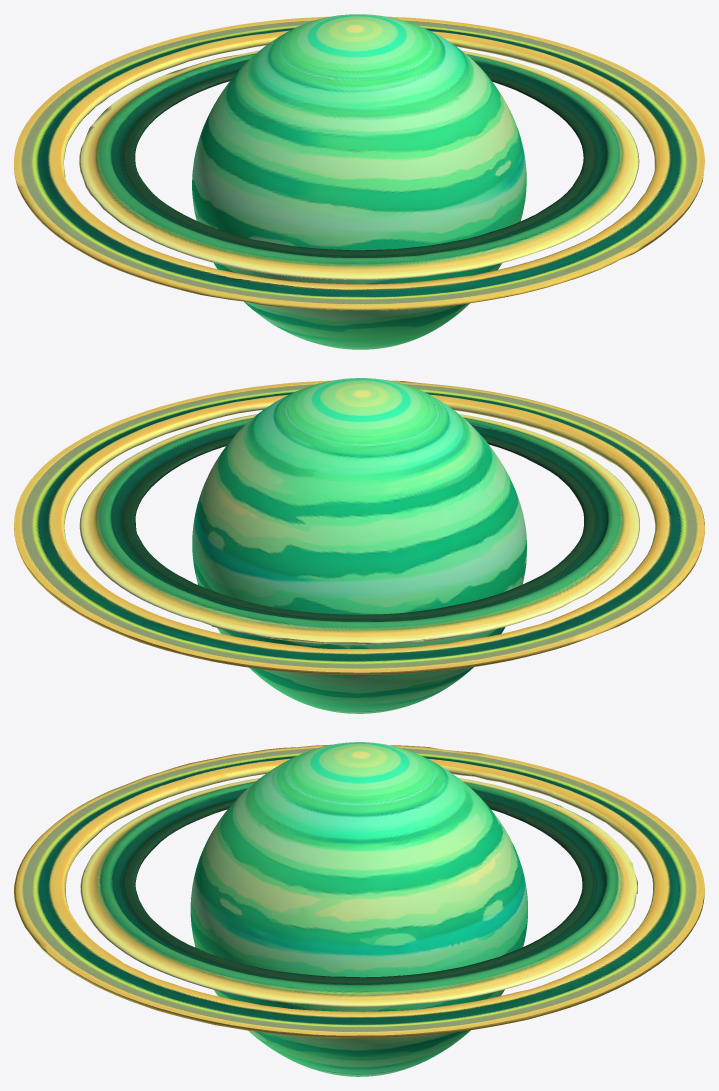
File: Meshy_AI_Emerald_Saturn_0520072056_texture.glb
3 renders of one model, top to bottom at view 1: azimuth 30°, elevation 25°; view 2: azimuth 150°, elevation 25°; view 3: azimuth 270°, elevation 25°, orthographic.
Parts seen in each view (by area): view 1: Mesh_0; view 2: Mesh_0; view 3: Mesh_0.
Part boxes in pixels (bbox=[...]): Mesh_0: bbox=[14, 14, 704, 349]; Mesh_0: bbox=[14, 378, 704, 713]; Mesh_0: bbox=[14, 742, 704, 1076].
Bounding box in the file's own units: 1.91 × 0.9336 × 1.91.
Materials: 1 (1 with a texture image).
